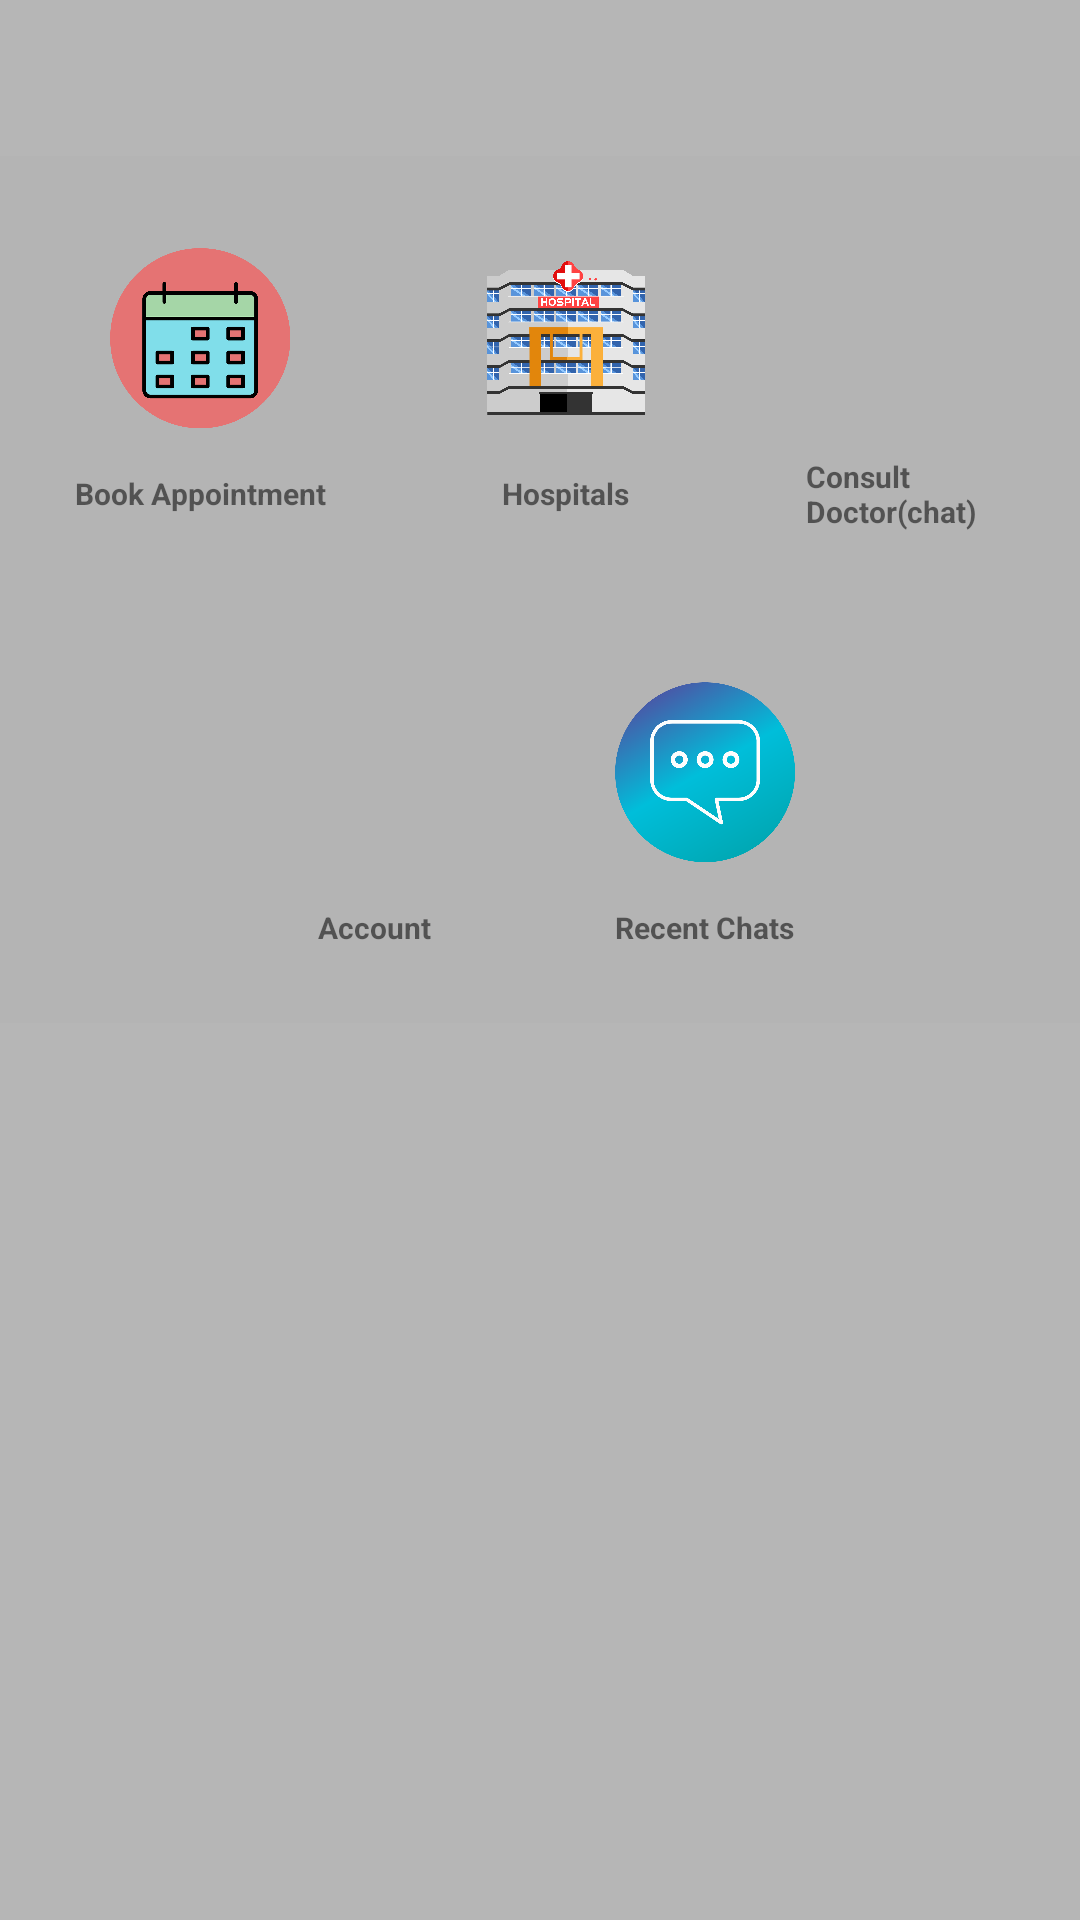

Point at icon controls on the screen. Image size 1080*1920, points as (x,y).
mess: (705,772)
